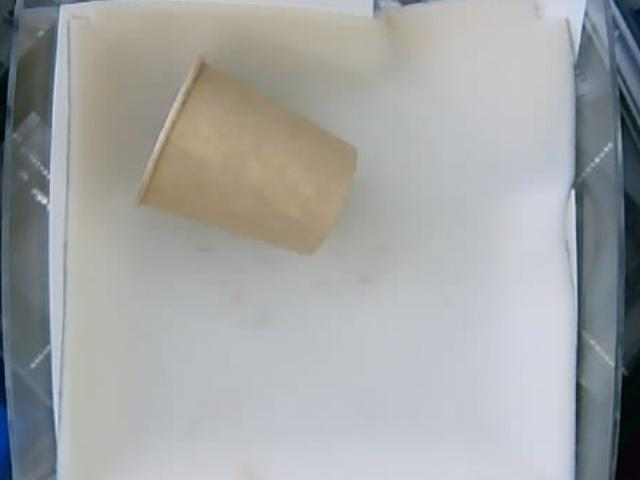Cup: (131, 57, 359, 253)
